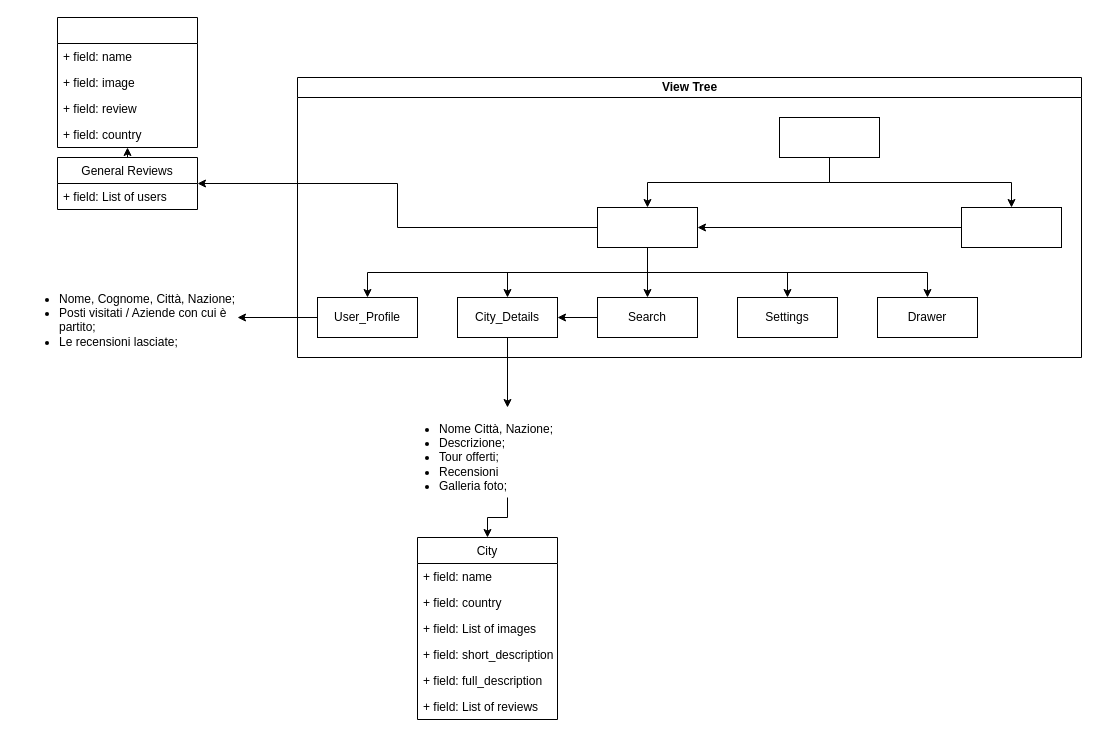
This 1099x740 diagram has some shape labels left out. Each missing label, with the box of its shape:
Dashboard: (596, 206, 698, 248)
Login: (960, 206, 1062, 248)
MyApp: (778, 116, 880, 158)
User: (56, 16, 198, 148)
